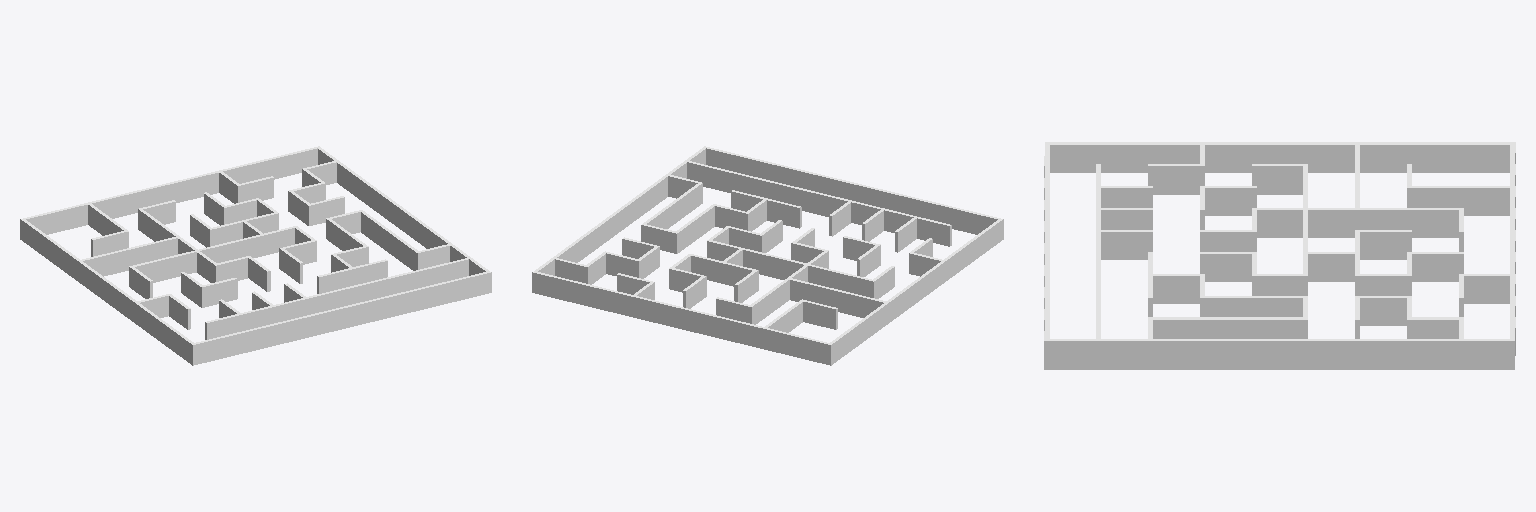
--- What the picture shows (computed from the rendered views, not written in the file) ---
The picture shows the robot from 3 angles, left to right: view 1: azimuth 30°, elevation 25°; view 2: azimuth 150°, elevation 25°; view 3: azimuth 270°, elevation 25°; orthographic projection.
Robot: my_maze — 99 links, 98 joints (98 fixed); root link odom; default pose: every joint at zero.
Links seen in each view (by area): view 1: wall2, wall26, wall51, wall72, wall14, wall22, wall43, wall62, wall81, wall32, wall20, wall53 (+28 smaller); view 2: wall20, wall53, wall15, wall13, wall50, wall98, wall71, wall42, wall21, wall61, wall80, wall31 (+26 smaller); view 3: wall11, wall92, wall16, wall89, wall93, wall87, wall91, wall3, wall82, wall84, wall5, wall95 (+28 smaller).
Boxes of the visible links, x1=… form: wall2: x1=192, y1=335, x2=228, y2=365; wall26: x1=200, y1=278, x2=237, y2=307; wall51: x1=356, y1=295, x2=392, y2=324; wall72: x1=422, y1=279, x2=458, y2=308; wall14: x1=225, y1=327, x2=261, y2=356; wall22: x1=258, y1=320, x2=294, y2=348; wall43: x1=326, y1=303, x2=359, y2=332; wall62: x1=392, y1=288, x2=425, y2=316; wall81: x1=458, y1=272, x2=491, y2=300; wall32: x1=290, y1=311, x2=326, y2=340; wall20: x1=91, y1=230, x2=128, y2=256; wall53: x1=317, y1=267, x2=354, y2=293; wall20: x1=800, y1=299, x2=837, y2=329; wall53: x1=764, y1=198, x2=801, y2=228; wall15: x1=917, y1=217, x2=951, y2=246; wall13: x1=796, y1=335, x2=832, y2=365; wall50: x1=664, y1=303, x2=700, y2=333; wall98: x1=533, y1=271, x2=569, y2=301; wall71: x1=599, y1=287, x2=634, y2=317; wall42: x1=700, y1=312, x2=733, y2=341; wall21: x1=765, y1=328, x2=797, y2=357; wall61: x1=634, y1=296, x2=666, y2=325; wall80: x1=567, y1=279, x2=600, y2=309; wall31: x1=733, y1=320, x2=764, y2=349; wall11: x1=1407, y1=142, x2=1463, y2=172; wall92: x1=1303, y1=339, x2=1359, y2=369; wall16: x1=1148, y1=164, x2=1201, y2=194; wall89: x1=1200, y1=339, x2=1256, y2=369; wall93: x1=1355, y1=339, x2=1411, y2=369; wall87: x1=1148, y1=339, x2=1204, y2=369; wall91: x1=1252, y1=339, x2=1307, y2=369; wall3: x1=1096, y1=142, x2=1152, y2=172; wall82: x1=1045, y1=339, x2=1098, y2=369; wall84: x1=1096, y1=339, x2=1152, y2=369; wall5: x1=1203, y1=142, x2=1256, y2=172; wall95: x1=1407, y1=339, x2=1460, y2=369.
Bounding box of the posed robot: 4.55 × 4.55 × 0.3 m (x, y, z).
Geometry: primitives only (box / cylinder / sphere), no mesh files.

The robot description file, URDF, robot "my_maze":
<?xml version='1.0'?>
<robot name="my_maze">

	<link name="odom">
	</link>
	<material name="white">
		<color rgba="1 1 1 1"/>
	</material>
	<link name='wall1'>
		<visual name='visual'>
			<geometry>
				<box size="0.05 0.55 0.3"/>
			</geometry>
			<origin xyz="-2.25 -2.25 0.15" rpy="0 0 0"/>
			<material name="white"/>
		</visual>
	</link>

	<link name='wall2'>
		<visual name='visual'>
			<geometry>
				<box size="0.05 0.55 0.3"/>
			</geometry>
			<origin xyz="-2 -2.5 0.15" rpy="0 0 1.57"/>
			<material name="white"/>
		</visual>
	</link>

	<link name='wall3'>
		<visual name='visual'>
			<geometry>
				<box size="0.05 0.55 0.3"/>
			</geometry>
			<origin xyz="-2.25 -1.75 0.15" rpy="0 0 0"/>
			<material name="white"/>
		</visual>
	</link>

	<link name='wall4'>
		<visual name='visual'>
			<geometry>
				<box size="0.05 0.55 0.3"/>
			</geometry>
			<origin xyz="-2.25 -1.25 0.15" rpy="0 0 0"/>
			<material name="white"/>
		</visual>
	</link>

	<link name='wall5'>
		<visual name='visual'>
			<geometry>
				<box size="0.05 0.55 0.3"/>
			</geometry>
			<origin xyz="-2.25 -0.75 0.15" rpy="0 0 0"/>
			<material name="white"/>
		</visual>
	</link>

	<link name='wall6'>
		<visual name='visual'>
			<geometry>
				<box size="0.05 0.55 0.3"/>
			</geometry>
			<origin xyz="-2 -1 0.15" rpy="0 0 1.57"/>
			<material name="white"/>
		</visual>
	</link>

	<link name='wall7'>
		<visual name='visual'>
			<geometry>
				<box size="0.05 0.55 0.3"/>
			</geometry>
			<origin xyz="-2.25 -0.25 0.15" rpy="0 0 0"/>
			<material name="white"/>
		</visual>
	</link>

	<link name='wall8'>
		<visual name='visual'>
			<geometry>
				<box size="0.05 0.55 0.3"/>
			</geometry>
			<origin xyz="-2.25 0.25 0.15" rpy="0 0 0"/>
			<material name="white"/>
		</visual>
	</link>

	<link name='wall9'>
		<visual name='visual'>
			<geometry>
				<box size="0.05 0.55 0.3"/>
			</geometry>
			<origin xyz="-2.25 0.75 0.15" rpy="0 0 0"/>
			<material name="white"/>
		</visual>
	</link>

	<link name='wall10'>
		<visual name='visual'>
			<geometry>
				<box size="0.05 0.55 0.3"/>
			</geometry>
			<origin xyz="-2 0.5 0.15" rpy="0 0 1.57"/>
			<material name="white"/>
		</visual>
	</link>

	<link name='wall11'>
		<visual name='visual'>
			<geometry>
				<box size="0.05 0.55 0.3"/>
			</geometry>
			<origin xyz="-2.25 1.25 0.15" rpy="0 0 0"/>
			<material name="white"/>
		</visual>
	</link>

	<link name='wall12'>
		<visual name='visual'>
			<geometry>
				<box size="0.05 0.55 0.3"/>
			</geometry>
			<origin xyz="-2.25 1.75 0.15" rpy="0 0 0"/>
			<material name="white"/>
		</visual>
	</link>

	<link name='wall13'>
		<visual name='visual'>
			<geometry>
				<box size="0.05 0.55 0.3"/>
			</geometry>
			<origin xyz="-2 2 0.15" rpy="0 0 1.57"/>
			<material name="white"/>
		</visual>
	</link>

	<link name='wall14'>
		<visual name='visual'>
			<geometry>
				<box size="0.05 0.55 0.3"/>
			</geometry>
			<origin xyz="-1.5 -2.5 0.15" rpy="0 0 1.57"/>
			<material name="white"/>
		</visual>
	</link>

	<link name='wall15'>
		<visual name='visual'>
			<geometry>
				<box size="0.05 0.55 0.3"/>
			</geometry>
			<origin xyz="-1.5 -2 0.15" rpy="0 0 1.57"/>
			<material name="white"/>
		</visual>
	</link>

	<link name='wall16'>
		<visual name='visual'>
			<geometry>
				<box size="0.05 0.55 0.3"/>
			</geometry>
			<origin xyz="-1.75 -1.25 0.15" rpy="0 0 0"/>
			<material name="white"/>
		</visual>
	</link>

	<link name='wall17'>
		<visual name='visual'>
			<geometry>
				<box size="0.05 0.55 0.3"/>
			</geometry>
			<origin xyz="-1.75 -0.25 0.15" rpy="0 0 0"/>
			<material name="white"/>
		</visual>
	</link>

	<link name='wall18'>
		<visual name='visual'>
			<geometry>
				<box size="0.05 0.55 0.3"/>
			</geometry>
			<origin xyz="-1.5 0 0.15" rpy="0 0 1.57"/>
			<material name="white"/>
		</visual>
	</link>

	<link name='wall19'>
		<visual name='visual'>
			<geometry>
				<box size="0.05 0.55 0.3"/>
			</geometry>
			<origin xyz="-1.5 0.5 0.15" rpy="0 0 1.57"/>
			<material name="white"/>
		</visual>
	</link>

	<link name='wall20'>
		<visual name='visual'>
			<geometry>
				<box size="0.05 0.55 0.3"/>
			</geometry>
			<origin xyz="-1.5 1 0.15" rpy="0 0 1.57"/>
			<material name="white"/>
		</visual>
	</link>

	<link name='wall21'>
		<visual name='visual'>
			<geometry>
				<box size="0.05 0.55 0.3"/>
			</geometry>
			<origin xyz="-1.5 2 0.15" rpy="0 0 1.57"/>
			<material name="white"/>
		</visual>
	</link>

	<link name='wall22'>
		<visual name='visual'>
			<geometry>
				<box size="0.05 0.55 0.3"/>
			</geometry>
			<origin xyz="-1 -2.5 0.15" rpy="0 0 1.57"/>
			<material name="white"/>
		</visual>
	</link>

	<link name='wall23'>
		<visual name='visual'>
			<geometry>
				<box size="0.05 0.55 0.3"/>
			</geometry>
			<origin xyz="-1.25 -1.75 0.15" rpy="0 0 0"/>
			<material name="white"/>
		</visual>
	</link>

	<link name='wall24'>
		<visual name='visual'>
			<geometry>
				<box size="0.05 0.55 0.3"/>
			</geometry>
			<origin xyz="-1 -2 0.15" rpy="0 0 1.57"/>
			<material name="white"/>
		</visual>
	</link>

	<link name='wall25'>
		<visual name='visual'>
			<geometry>
				<box size="0.05 0.55 0.3"/>
			</geometry>
			<origin xyz="-1.25 -0.75 0.15" rpy="0 0 0"/>
			<material name="white"/>
		</visual>
	</link>

	<link name='wall26'>
		<visual name='visual'>
			<geometry>
				<box size="0.05 0.55 0.3"/>
			</geometry>
			<origin xyz="-1 -1 0.15" rpy="0 0 1.57"/>
			<material name="white"/>
		</visual>
	</link>

	<link name='wall27'>
		<visual name='visual'>
			<geometry>
				<box size="0.05 0.55 0.3"/>
			</geometry>
			<origin xyz="-1 0 0.15" rpy="0 0 1.57"/>
			<material name="white"/>
		</visual>
	</link>

	<link name='wall28'>
		<visual name='visual'>
			<geometry>
				<box size="0.05 0.55 0.3"/>
			</geometry>
			<origin xyz="-1 0.5 0.15" rpy="0 0 1.57"/>
			<material name="white"/>
		</visual>
	</link>

	<link name='wall29'>
		<visual name='visual'>
			<geometry>
				<box size="0.05 0.55 0.3"/>
			</geometry>
			<origin xyz="-1.25 1.25 0.15" rpy="0 0 0"/>
			<material name="white"/>
		</visual>
	</link>

	<link name='wall30'>
		<visual name='visual'>
			<geometry>
				<box size="0.05 0.55 0.3"/>
			</geometry>
			<origin xyz="-1.25 1.75 0.15" rpy="0 0 0"/>
			<material name="white"/>
		</visual>
	</link>

	<link name='wall31'>
		<visual name='visual'>
			<geometry>
				<box size="0.05 0.55 0.3"/>
			</geometry>
			<origin xyz="-1 2 0.15" rpy="0 0 1.57"/>
			<material name="white"/>
		</visual>
	</link>

	<link name='wall32'>
		<visual name='visual'>
			<geometry>
				<box size="0.05 0.55 0.3"/>
			</geometry>
			<origin xyz="-0.5 -2.5 0.15" rpy="0 0 1.57"/>
			<material name="white"/>
		</visual>
	</link>

	<link name='wall33'>
		<visual name='visual'>
			<geometry>
				<box size="0.05 0.55 0.3"/>
			</geometry>
			<origin xyz="-0.75 -1.75 0.15" rpy="0 0 0"/>
			<material name="white"/>
		</visual>
	</link>

	<link name='wall34'>
		<visual name='visual'>
			<geometry>
				<box size="0.05 0.55 0.3"/>
			</geometry>
			<origin xyz="-0.5 -2 0.15" rpy="0 0 1.57"/>
			<material name="white"/>
		</visual>
	</link>

	<link name='wall35'>
		<visual name='visual'>
			<geometry>
				<box size="0.05 0.55 0.3"/>
			</geometry>
			<origin xyz="-0.75 -0.25 0.15" rpy="0 0 0"/>
			<material name="white"/>
		</visual>
	</link>

	<link name='wall36'>
		<visual name='visual'>
			<geometry>
				<box size="0.05 0.55 0.3"/>
			</geometry>
			<origin xyz="-0.5 -0.5 0.15" rpy="0 0 1.57"/>
			<material name="white"/>
		</visual>
	</link>

	<link name='wall37'>
		<visual name='visual'>
			<geometry>
				<box size="0.05 0.55 0.3"/>
			</geometry>
			<origin xyz="-0.75 0.25 0.15" rpy="0 0 0"/>
			<material name="white"/>
		</visual>
	</link>

	<link name='wall38'>
		<visual name='visual'>
			<geometry>
				<box size="0.05 0.55 0.3"/>
			</geometry>
			<origin xyz="-0.5 0 0.15" rpy="0 0 1.57"/>
			<material name="white"/>
		</visual>
	</link>

	<link name='wall39'>
		<visual name='visual'>
			<geometry>
				<box size="0.05 0.55 0.3"/>
			</geometry>
			<origin xyz="-0.75 0.75 0.15" rpy="0 0 0"/>
			<material name="white"/>
		</visual>
	</link>

	<link name='wall40'>
		<visual name='visual'>
			<geometry>
				<box size="0.05 0.55 0.3"/>
			</geometry>
			<origin xyz="-0.75 1.25 0.15" rpy="0 0 0"/>
			<material name="white"/>
		</visual>
	</link>

	<link name='wall41'>
		<visual name='visual'>
			<geometry>
				<box size="0.05 0.55 0.3"/>
			</geometry>
			<origin xyz="-0.5 1.5 0.15" rpy="0 0 1.57"/>
			<material name="white"/>
		</visual>
	</link>

	<link name='wall42'>
		<visual name='visual'>
			<geometry>
				<box size="0.05 0.55 0.3"/>
			</geometry>
			<origin xyz="-0.5 2 0.15" rpy="0 0 1.57"/>
			<material name="white"/>
		</visual>
	</link>

	<link name='wall43'>
		<visual name='visual'>
			<geometry>
				<box size="0.05 0.55 0.3"/>
			</geometry>
			<origin xyz="0 -2.5 0.15" rpy="0 0 1.57"/>
			<material name="white"/>
		</visual>
	</link>

	<link name='wall44'>
		<visual name='visual'>
			<geometry>
				<box size="0.05 0.55 0.3"/>
			</geometry>
			<origin xyz="-0.25 -1.75 0.15" rpy="0 0 0"/>
			<material name="white"/>
		</visual>
	</link>

	<link name='wall45'>
		<visual name='visual'>
			<geometry>
				<box size="0.05 0.55 0.3"/>
			</geometry>
			<origin xyz="0 -2 0.15" rpy="0 0 1.57"/>
			<material name="white"/>
		</visual>
	</link>

	<link name='wall46'>
		<visual name='visual'>
			<geometry>
				<box size="0.05 0.55 0.3"/>
			</geometry>
			<origin xyz="-0.25 -0.75 0.15" rpy="0 0 0"/>
			<material name="white"/>
		</visual>
	</link>

	<link name='wall47'>
		<visual name='visual'>
			<geometry>
				<box size="0.05 0.55 0.3"/>
			</geometry>
			<origin xyz="0 0 0.15" rpy="0 0 1.57"/>
			<material name="white"/>
		</visual>
	</link>

	<link name='wall48'>
		<visual name='visual'>
			<geometry>
				<box size="0.05 0.55 0.3"/>
			</geometry>
			<origin xyz="-0.25 0.75 0.15" rpy="0 0 0"/>
			<material name="white"/>
		</visual>
	</link>

	<link name='wall49'>
		<visual name='visual'>
			<geometry>
				<box size="0.05 0.55 0.3"/>
			</geometry>
			<origin xyz="0 0.5 0.15" rpy="0 0 1.57"/>
			<material name="white"/>
		</visual>
	</link>

	<link name='wall50'>
		<visual name='visual'>
			<geometry>
				<box size="0.05 0.55 0.3"/>
			</geometry>
			<origin xyz="0 2 0.15" rpy="0 0 1.57"/>
			<material name="white"/>
		</visual>
	</link>

	<link name='wall51'>
		<visual name='visual'>
			<geometry>
				<box size="0.05 0.55 0.3"/>
			</geometry>
			<origin xyz="0.5 -2.5 0.15" rpy="0 0 1.57"/>
			<material name="white"/>
		</visual>
	</link>

	<link name='wall52'>
		<visual name='visual'>
			<geometry>
				<box size="0.05 0.55 0.3"/>
			</geometry>
			<origin xyz="0.5 -2 0.15" rpy="0 0 1.57"/>
			<material name="white"/>
		</visual>
	</link>

	<link name='wall53'>
		<visual name='visual'>
			<geometry>
				<box size="0.05 0.55 0.3"/>
			</geometry>
			<origin xyz="0.5 -1.5 0.15" rpy="0 0 1.57"/>
			<material name="white"/>
		</visual>
	</link>

	<link name='wall54'>
		<visual name='visual'>
			<geometry>
				<box size="0.05 0.55 0.3"/>
			</geometry>
			<origin xyz="0.25 -0.75 0.15" rpy="0 0 0"/>
			<material name="white"/>
		</visual>
	</link>

	<link name='wall55'>
		<visual name='visual'>
			<geometry>
				<box size="0.05 0.55 0.3"/>
			</geometry>
			<origin xyz="0.5 -0.5 0.15" rpy="0 0 1.57"/>
			<material name="white"/>
		</visual>
	</link>

	<link name='wall56'>
		<visual name='visual'>
			<geometry>
				<box size="0.05 0.55 0.3"/>
			</geometry>
			<origin xyz="0.25 0.25 0.15" rpy="0 0 0"/>
			<material name="white"/>
		</visual>
	</link>

	<link name='wall57'>
		<visual name='visual'>
			<geometry>
				<box size="0.05 0.55 0.3"/>
			</geometry>
			<origin xyz="0.5 0 0.15" rpy="0 0 1.57"/>
			<material name="white"/>
		</visual>
	</link>

	<link name='wall58'>
		<visual name='visual'>
			<geometry>
				<box size="0.05 0.55 0.3"/>
			</geometry>
			<origin xyz="0.5 0.5 0.15" rpy="0 0 1.57"/>
			<material name="white"/>
		</visual>
	</link>

	<link name='wall59'>
		<visual name='visual'>
			<geometry>
				<box size="0.05 0.55 0.3"/>
			</geometry>
			<origin xyz="0.25 1.25 0.15" rpy="0 0 0"/>
			<material name="white"/>
		</visual>
	</link>

	<link name='wall60'>
		<visual name='visual'>
			<geometry>
				<box size="0.05 0.55 0.3"/>
			</geometry>
			<origin xyz="0.5 1 0.15" rpy="0 0 1.57"/>
			<material name="white"/>
		</visual>
	</link>

	<link name='wall61'>
		<visual name='visual'>
			<geometry>
				<box size="0.05 0.55 0.3"/>
			</geometry>
			<origin xyz="0.5 2 0.15" rpy="0 0 1.57"/>
			<material name="white"/>
		</visual>
	</link>

	<link name='wall62'>
		<visual name='visual'>
			<geometry>
				<box size="0.05 0.55 0.3"/>
			</geometry>
			<origin xyz="1 -2.5 0.15" rpy="0 0 1.57"/>
			<material name="white"/>
		</visual>
	</link>

	<link name='wall63'>
		<visual name='visual'>
			<geometry>
				<box size="0.05 0.55 0.3"/>
			</geometry>
			<origin xyz="1 -2 0.15" rpy="0 0 1.57"/>
			<material name="white"/>
		</visual>
	</link>

	<link name='wall64'>
		<visual name='visual'>
			<geometry>
				<box size="0.05 0.55 0.3"/>
			</geometry>
			<origin xyz="0.75 -1.25 0.15" rpy="0 0 0"/>
			<material name="white"/>
		</visual>
	</link>

	<link name='wall65'>
		<visual name='visual'>
			<geometry>
				<box size="0.05 0.55 0.3"/>
			</geometry>
			<origin xyz="1 -1.5 0.15" rpy="0 0 1.57"/>
			<material name="white"/>
		</visual>
	</link>

	<link name='wall66'>
		<visual name='visual'>
			<geometry>
				<box size="0.05 0.55 0.3"/>
			</geometry>
			<origin xyz="1 -1 0.15" rpy="0 0 1.57"/>
			<material name="white"/>
		</visual>
	</link>

	<link name='wall67'>
		<visual name='visual'>
			<geometry>
				<box size="0.05 0.55 0.3"/>
			</geometry>
			<origin xyz="0.75 -0.25 0.15" rpy="0 0 0"/>
			<material name="white"/>
		</visual>
	</link>

	<link name='wall68'>
		<visual name='visual'>
			<geometry>
				<box size="0.05 0.55 0.3"/>
			</geometry>
			<origin xyz="0.75 0.75 0.15" rpy="0 0 0"/>
			<material name="white"/>
		</visual>
	</link>

	<link name='wall69'>
		<visual name='visual'>
			<geometry>
				<box size="0.05 0.55 0.3"/>
			</geometry>
			<origin xyz="0.75 1.75 0.15" rpy="0 0 0"/>
			<material name="white"/>
		</visual>
	</link>

	<link name='wall70'>
		<visual name='visual'>
			<geometry>
				<box size="0.05 0.55 0.3"/>
			</geometry>
			<origin xyz="1 1.5 0.15" rpy="0 0 1.57"/>
			<material name="white"/>
		</visual>
	</link>

	<link name='wall71'>
		<visual name='visual'>
			<geometry>
				<box size="0.05 0.55 0.3"/>
			</geometry>
			<origin xyz="1 2 0.15" rpy="0 0 1.57"/>
			<material name="white"/>
		</visual>
	</link>

	<link name='wall72'>
		<visual name='visual'>
			<geometry>
				<box size="0.05 0.55 0.3"/>
			</geometry>
			<origin xyz="1.5 -2.5 0.15" rpy="0 0 1.57"/>
			<material name="white"/>
		</visual>
	</link>

	<link name='wall73'>
		<visual name='visual'>
			<geometry>
				<box size="0.05 0.55 0.3"/>
			</geometry>
			<origin xyz="1.5 -2 0.15" rpy="0 0 1.57"/>
			<material name="white"/>
		</visual>
	</link>

	<link name='wall74'>
		<visual name='visual'>
			<geometry>
				<box size="0.05 0.55 0.3"/>
			</geometry>
			<origin xyz="1.25 -0.75 0.15" rpy="0 0 0"/>
			<material name="white"/>
		</visual>
	</link>

	<link name='wall75'>
		<visual name='visual'>
			<geometry>
				<box size="0.05 0.55 0.3"/>
			</geometry>
			<origin xyz="1.25 -0.25 0.15" rpy="0 0 0"/>
			<material name="white"/>
		</visual>
	</link>

	<link name='wall76'>
		<visual name='visual'>
			<geometry>
				<box size="0.05 0.55 0.3"/>
			</geometry>
			<origin xyz="1.5 0 0.15" rpy="0 0 1.57"/>
			<material name="white"/>
		</visual>
	</link>

	<link name='wall77'>
		<visual name='visual'>
			<geometry>
				<box size="0.05 0.55 0.3"/>
			</geometry>
			<origin xyz="1.25 0.75 0.15" rpy="0 0 0"/>
			<material name="white"/>
		</visual>
	</link>

	<link name='wall78'>
		<visual name='visual'>
			<geometry>
				<box size="0.05 0.55 0.3"/>
			</geometry>
			<origin xyz="1.5 0.5 0.15" rpy="0 0 1.57"/>
			<material name="white"/>
		</visual>
	</link>

	<link name='wall79'>
		<visual name='visual'>
			<geometry>
				<box size="0.05 0.55 0.3"/>
			</geometry>
			<origin xyz="1.5 1 0.15" rpy="0 0 1.57"/>
			<material name="white"/>
		</visual>
	</link>

	<link name='wall80'>
		<visual name='visual'>
			<geometry>
				<box size="0.05 0.55 0.3"/>
			</geometry>
			<origin xyz="1.5 2 0.15" rpy="0 0 1.57"/>
			<material name="white"/>
		</visual>
	</link>

	<link name='wall81'>
		<visual name='visual'>
			<geometry>
				<box size="0.05 0.55 0.3"/>
			</geometry>
			<origin xyz="2 -2.5 0.15" rpy="0 0 1.57"/>
			<material name="white"/>
		</visual>
	</link>

	<link name='wall82'>
		<visual name='visual'>
			<geometry>
				<box size="0.05 0.55 0.3"/>
			</geometry>
			<origin xyz="2.25 -2.25 0.15" rpy="0 0 0"/>
			<material name="white"/>
		</visual>
	</link>

	<link name='wall83'>
		<visual name='visual'>
			<geometry>
				<box size="0.05 0.55 0.3"/>
			</geometry>
			<origin xyz="2 -2 0.15" rpy="0 0 1.57"/>
			<material name="white"/>
		</visual>
	</link>

	<link name='wall84'>
		<visual name='visual'>
			<geometry>
				<box size="0.05 0.55 0.3"/>
			</geometry>
			<origin xyz="2.25 -1.75 0.15" rpy="0 0 0"/>
			<material name="white"/>
		</visual>
	</link>

	<link name='wall85'>
		<visual name='visual'>
			<geometry>
				<box size="0.05 0.55 0.3"/>
			</geometry>
			<origin xyz="1.75 -1.25 0.15" rpy="0 0 0"/>
			<material name="white"/>
		</visual>
	</link>

	<link name='wall86'>
		<visual name='visual'>
			<geometry>
				<box size="0.05 0.55 0.3"/>
			</geometry>
			<origin xyz="2 -1.5 0.15" rpy="0 0 1.57"/>
			<material name="white"/>
		</visual>
	</link>

	<link name='wall87'>
		<visual name='visual'>
			<geometry>
				<box size="0.05 0.55 0.3"/>
			</geometry>
			<origin xyz="2.25 -1.25 0.15" rpy="0 0 0"/>
			<material name="white"/>
		</visual>
	</link>

	<link name='wall88'>
		<visual name='visual'>
			<geometry>
				<box size="0.05 0.55 0.3"/>
			</geometry>
			<origin xyz="1.75 -0.75 0.15" rpy="0 0 0"/>
			<material name="white"/>
		</visual>
	</link>

	<link name='wall89'>
		<visual name='visual'>
			<geometry>
				<box size="0.05 0.55 0.3"/>
			</geometry>
			<origin xyz="2.25 -0.75 0.15" rpy="0 0 0"/>
			<material name="white"/>
		</visual>
	</link>

	<link name='wall90'>
		<visual name='visual'>
			<geometry>
				<box size="0.05 0.55 0.3"/>
			</geometry>
			<origin xyz="1.75 -0.25 0.15" rpy="0 0 0"/>
			<material name="white"/>
		</visual>
	</link>

	<link name='wall91'>
		<visual name='visual'>
			<geometry>
				<box size="0.05 0.55 0.3"/>
			</geometry>
			<origin xyz="2.25 -0.25 0.15" rpy="0 0 0"/>
			<material name="white"/>
		</visual>
	</link>

	<link name='wall92'>
		<visual name='visual'>
			<geometry>
				<box size="0.05 0.55 0.3"/>
			</geometry>
			<origin xyz="2.25 0.25 0.15" rpy="0 0 0"/>
			<material name="white"/>
		</visual>
	</link>

	<link name='wall93'>
		<visual name='visual'>
			<geometry>
				<box size="0.05 0.55 0.3"/>
			</geometry>
			<origin xyz="2.25 0.75 0.15" rpy="0 0 0"/>
			<material name="white"/>
		</visual>
	</link>

	<link name='wall94'>
		<visual name='visual'>
			<geometry>
				<box size="0.05 0.55 0.3"/>
			</geometry>
			<origin xyz="1.75 1.25 0.15" rpy="0 0 0"/>
			<material name="white"/>
		</visual>
	</link>

	<link name='wall95'>
		<visual name='visual'>
			<geometry>
				<box size="0.05 0.55 0.3"/>
			</geometry>
			<origin xyz="2.25 1.25 0.15" rpy="0 0 0"/>
			<material name="white"/>
		</visual>
	</link>

	<link name='wall96'>
		<visual name='visual'>
			<geometry>
				<box size="0.05 0.55 0.3"/>
			</geometry>
			<origin xyz="2 1.5 0.15" rpy="0 0 1.57"/>
			<material name="white"/>
		</visual>
	</link>

	<link name='wall97'>
		<visual name='visual'>
			<geometry>
				<box size="0.05 0.55 0.3"/>
			</geometry>
			<origin xyz="2.25 1.75 0.15" rpy="0 0 0"/>
			<material name="white"/>
		</visual>
	</link>

	<link name='wall98'>
		<visual name='visual'>
			<geometry>
				<box size="0.05 0.55 0.3"/>
			</geometry>
			<origin xyz="2 2 0.15" rpy="0 0 1.57"/>
			<material name="white"/>
		</visual>
	</link>

	<joint name="walls_to_world1" type="fixed">
		<parent link="odom"/>
 	<child link="wall1"/>
 </joint>

	<joint name="walls_to_world2" type="fixed">
		<parent link="odom"/>
 	<child link="wall2"/>
 </joint>

	<joint name="walls_to_world3" type="fixed">
		<parent link="odom"/>
 	<child link="wall3"/>
 </joint>

	<joint name="walls_to_world4" type="fixed">
		<parent link="odom"/>
 	<child link="wall4"/>
 </joint>

	<joint name="walls_to_world5" type="fixed">
		<parent link="odom"/>
 	<child link="wall5"/>
 </joint>

	<joint name="walls_to_world6" type="fixed">
		<parent link="odom"/>
 	<child link="wall6"/>
 </joint>

	<joint name="walls_to_world7" type="fixed">
		<parent link="odom"/>
 	<child link="wall7"/>
 </joint>

	<joint name="walls_to_world8" type="fixed">
		<parent link="odom"/>
 	<child link="wall8"/>
 </joint>

	<joint name="walls_to_world9" type="fixed">
		<parent link="odom"/>
 	<child link="wall9"/>
 </joint>

	<joint name="walls_to_world10" type="fixed">
		<parent link="odom"/>
 	<child link="wall10"/>
 </joint>

	<joint name="walls_to_world11" type="fixed">
		<parent link="odom"/>
 	<child link="wall11"/>
 </joint>

	<joint name="walls_to_world12" type="fixed">
		<parent link="odom"/>
 	<child link="wall12"/>
 </joint>

	<joint name="walls_to_world13" type="fixed">
		<parent link="odom"/>
 	<child link="wall13"/>
 </joint>

	<joint name="walls_to_world14" type="fixed">
		<parent link="odom"/>
 	<child link="wall14"/>
 </joint>

	<joint name="walls_to_world15" type="fixed">
		<parent link="odom"/>
 	<child link="wall15"/>
 </joint>

	<joint name="walls_to_world16" type="fixed">
		<parent link="odom"/>
 	<child link="wall16"/>
 </joint>

	<joint name="walls_to_world17" type="fixed">
		<parent link="odom"/>
 	<child link="wall17"/>
 </joint>

	<joint name="walls_to_world18" type="fixed">
		<parent link="odom"/>
 	<child link="wall18"/>
 </joint>

	<joint name="walls_to_world19" type="fixed">
		<parent link="odom"/>
 	<child link="wall19"/>
 </joint>

	<joint name="walls_to_world20" type="fixed">
		<parent link="odom"/>
 	<child link="wall20"/>
 </joint>

	<joint name="walls_to_world21" type="fixed">
		<parent link="odom"/>
 	<child link="wall21"/>
 </joint>

	<joint name="walls_to_world22" type="fixed">
		<parent link="odom"/>
 	<child link="wall22"/>
 </joint>

	<joint name="walls_to_world23" type="fixed">
		<parent link="odom"/>
 	<child link="wall23"/>
 </joint>

	<joint name="walls_to_world24" type="fixed">
		<parent link="odom"/>
 	<child link="wall24"/>
 </joint>

	<joint name="walls_to_world25" type="fixed">
		<parent link="odom"/>
 	<child link="wall25"/>
 </joint>

	<joint name="walls_to_world26" type="fixed">
		<parent link="odom"/>
 	<child link="wall26"/>
 </joint>

	<joint name="walls_to_world27" type="fixed">
		<parent link="odom"/>
 	<child link="wall27"/>
 </joint>

	<joint name="walls_to_world28" type="fixed">
		<parent link="odom"/>
 	<child link="wall28"/>
 </joint>

	<joint name="walls_to_world29" type="fixed">
		<parent link="odom"/>
 	<child link="wall29"/>
 </joint>

	<joint name="walls_to_world30" type="fixed">
		<parent link="odom"/>
 	<child link="wall30"/>
 </joint>

	<joint name="walls_to_world31" type="fixed">
		<parent link="odom"/>
 	<child link="wall31"/>
 </joint>

	<joint name="walls_to_world32" type="fixed">
		<parent link="odom"/>
 	<child link="wall32"/>
 </joint>

	<joint name="walls_to_world33" type="fixed">
		<parent link="odom"/>
 	<child link="wall33"/>
 </joint>

	<joint name="walls_to_world34" type="fixed">
		<parent link="odom"/>
 	<child link="wall34"/>
 </joint>

	<joint name="walls_to_world35" type="fixed">
		<parent link="odom"/>
 	<child link="wall35"/>
 </joint>

	<joint name="walls_to_world36" type="fixed">
		<parent link="odom"/>
 	<child link="wall36"/>
 </joint>

	<joint name="walls_to_world37" type="fixed">
		<parent link="odom"/>
 	<child link="wall37"/>
 </joint>

	<joint name="walls_to_world38" type="fixed">
		<parent link="odom"/>
 	<child link="wall38"/>
 </joint>

	<joint name="walls_to_world39" type="fixed">
		<parent link="odom"/>
 	<child link="wall39"/>
 </joint>

	<joint name="walls_to_world40" type="fixed">
		<parent link="odom"/>
 	<child link="wall40"/>
 </joint>

	<joint name="walls_to_world41" type="fixed">
		<parent link="odom"/>
 	<child link="wall41"/>
 </joint>

	<joint name="walls_to_world42" type="fixed">
		<parent link="odom"/>
 	<child link="wall42"/>
 </joint>

	<joint name="walls_to_world43" type="fixed">
		<parent link="odom"/>
 	<child link="wall43"/>
 </joint>

	<joint name="walls_to_world44" type="fixed">
		<parent link="odom"/>
 	<child link="wall44"/>
 </joint>

	<joint name="walls_to_world45" type="fixed">
		<parent link="odom"/>
 	<child link="wall45"/>
 </joint>

	<joint name="walls_to_world46" type="fixed">
		<parent link="odom"/>
 	<child link="wall46"/>
 </joint>

	<joint name="walls_to_world47" type="fixed">
		<parent link="odom"/>
 	<child link="wall47"/>
 </joint>

	<joint name="walls_to_world48" type="fixed">
		<parent link="odom"/>
 	<child link="wall48"/>
 </joint>

	<joint name="walls_to_world49" type="fixed">
		<parent link="odom"/>
 	<child link="wall49"/>
 </joint>

	<joint name="walls_to_world50" type="fixed">
		<parent link="odom"/>
 	<child link="wall50"/>
 </joint>

	<joint name="walls_to_world51" type="fixed">
		<parent link="odom"/>
 	<child link="wall51"/>
 </joint>

	<joint name="walls_to_world52" type="fixed">
		<parent link="odom"/>
 	<child link="wall52"/>
 </joint>

	<joint name="walls_to_world53" type="fixed">
		<parent link="odom"/>
 	<child link="wall53"/>
 </joint>

	<joint name="walls_to_world54" type="fixed">
		<parent link="odom"/>
 	<child link="wall54"/>
 </joint>

	<joint name="walls_to_world55" type="fixed">
		<parent link="odom"/>
 	<child link="wall55"/>
 </joint>

	<joint name="walls_to_world56" type="fixed">
		<parent link="odom"/>
 	<child link="wall56"/>
 </joint>

	<joint name="walls_to_world57" type="fixed">
		<parent link="odom"/>
 	<child link="wall57"/>
 </joint>

	<joint name="walls_to_world58" type="fixed">
		<parent link="odom"/>
 	<child link="wall58"/>
 </joint>

	<joint name="walls_to_world59" type="fixed">
		<parent link="odom"/>
 	<child link="wall59"/>
 </joint>

	<joint name="walls_to_world60" type="fixed">
		<parent link="odom"/>
 	<child link="wall60"/>
 </joint>

	<joint name="walls_to_world61" type="fixed">
		<parent link="odom"/>
 	<child link="wall61"/>
 </joint>

	<joint name="walls_to_world62" type="fixed">
		<parent link="odom"/>
 	<child link="wall62"/>
 </joint>

	<joint name="walls_to_world63" type="fixed">
		<parent link="odom"/>
 	<child link="wall63"/>
 </joint>

	<joint name="walls_to_world64" type="fixed">
		<parent link="odom"/>
 	<child link="wall64"/>
 </joint>

	<joint name="walls_to_world65" type="fixed">
		<parent link="odom"/>
 	<child link="wall65"/>
 </joint>

	<joint name="walls_to_world66" type="fixed">
		<parent link="odom"/>
 	<child link="wall66"/>
 </joint>

	<joint name="walls_to_world67" type="fixed">
		<parent link="odom"/>
 	<child link="wall67"/>
 </joint>

	<joint name="walls_to_world68" type="fixed">
		<parent link="odom"/>
 	<child link="wall68"/>
 </joint>

	<joint name="walls_to_world69" type="fixed">
		<parent link="odom"/>
 	<child link="wall69"/>
 </joint>

	<joint name="walls_to_world70" type="fixed">
		<parent link="odom"/>
 	<child link="wall70"/>
 </joint>

	<joint name="walls_to_world71" type="fixed">
		<parent link="odom"/>
 	<child link="wall71"/>
 </joint>

	<joint name="walls_to_world72" type="fixed">
		<parent link="odom"/>
 	<child link="wall72"/>
 </joint>

	<joint name="walls_to_world73" type="fixed">
		<parent link="odom"/>
 	<child link="wall73"/>
 </joint>

	<joint name="walls_to_world74" type="fixed">
		<parent link="odom"/>
 	<child link="wall74"/>
 </joint>

	<joint name="walls_to_world75" type="fixed">
		<parent link="odom"/>
 	<child link="wall75"/>
 </joint>

	<joint name="walls_to_world76" type="fixed">
		<parent link="odom"/>
 	<child link="wall76"/>
 </joint>

	<joint name="walls_to_world77" type="fixed">
		<parent link="odom"/>
 	<child link="wall77"/>
 </joint>

	<joint name="walls_to_world78" type="fixed">
		<parent link="odom"/>
 	<child link="wall78"/>
 </joint>

	<joint name="walls_to_world79" type="fixed">
		<parent link="odom"/>
 	<child link="wall79"/>
 </joint>

	<joint name="walls_to_world80" type="fixed">
		<parent link="odom"/>
 	<child link="wall80"/>
 </joint>

	<joint name="walls_to_world81" type="fixed">
		<parent link="odom"/>
 	<child link="wall81"/>
 </joint>

	<joint name="walls_to_world82" type="fixed">
		<parent link="odom"/>
 	<child link="wall82"/>
 </joint>

	<joint name="walls_to_world83" type="fixed">
		<parent link="odom"/>
 	<child link="wall83"/>
 </joint>

	<joint name="walls_to_world84" type="fixed">
		<parent link="odom"/>
 	<child link="wall84"/>
 </joint>

	<joint name="walls_to_world85" type="fixed">
		<parent link="odom"/>
 	<child link="wall85"/>
 </joint>

	<joint name="walls_to_world86" type="fixed">
		<parent link="odom"/>
 	<child link="wall86"/>
 </joint>

	<joint name="walls_to_world87" type="fixed">
		<parent link="odom"/>
 	<child link="wall87"/>
 </joint>

	<joint name="walls_to_world88" type="fixed">
		<parent link="odom"/>
 	<child link="wall88"/>
 </joint>

	<joint name="walls_to_world89" type="fixed">
		<parent link="odom"/>
 	<child link="wall89"/>
 </joint>

	<joint name="walls_to_world90" type="fixed">
		<parent link="odom"/>
 	<child link="wall90"/>
 </joint>

	<joint name="walls_to_world91" type="fixed">
		<parent link="odom"/>
 	<child link="wall91"/>
 </joint>

	<joint name="walls_to_world92" type="fixed">
		<parent link="odom"/>
 	<child link="wall92"/>
 </joint>

	<joint name="walls_to_world93" type="fixed">
		<parent link="odom"/>
 	<child link="wall93"/>
 </joint>

	<joint name="walls_to_world94" type="fixed">
		<parent link="odom"/>
 	<child link="wall94"/>
 </joint>

	<joint name="walls_to_world95" type="fixed">
		<parent link="odom"/>
 	<child link="wall95"/>
 </joint>

	<joint name="walls_to_world96" type="fixed">
		<parent link="odom"/>
 	<child link="wall96"/>
 </joint>

	<joint name="walls_to_world97" type="fixed">
		<parent link="odom"/>
 	<child link="wall97"/>
 </joint>

	<joint name="walls_to_world98" type="fixed">
		<parent link="odom"/>
 	<child link="wall98"/>
 </joint>

</robot>
